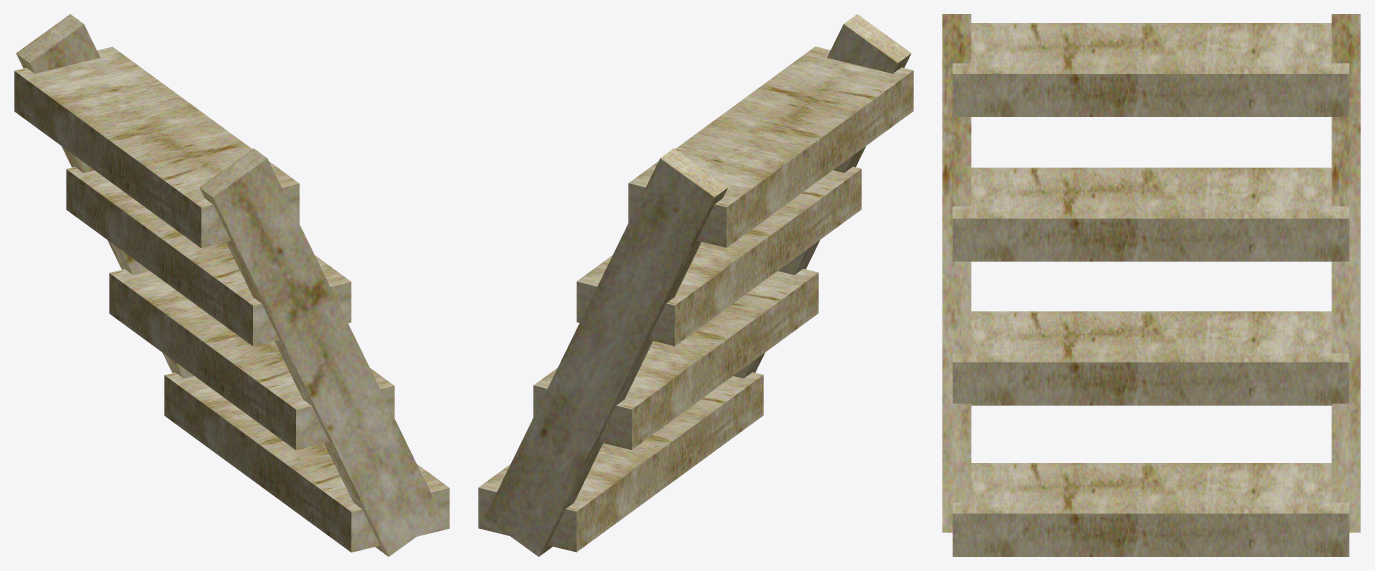
Rendered from Ladder.fbx.
The picture shows the model from 3 angles, left to right: view 1: azimuth 30°, elevation 25°; view 2: azimuth 150°, elevation 25°; view 3: azimuth 270°, elevation 25°; orthographic projection. The views are drawn at different scales.
Parts seen in each view (by area): view 1: Ladder; view 2: Ladder; view 3: Ladder.
Part boxes in pixels (x1,y1,x2,y2): Ladder: (14, 14, 449, 556); Ladder: (478, 14, 913, 556); Ladder: (942, 14, 1360, 556).
Bounding box in the file's own units: 75.28 × 124 × 103.
